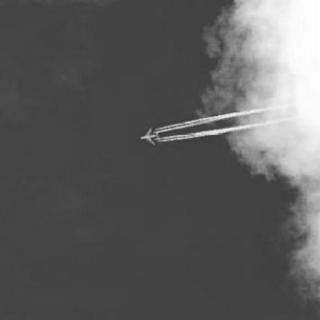Contrails: (0, 0, 320, 238)
